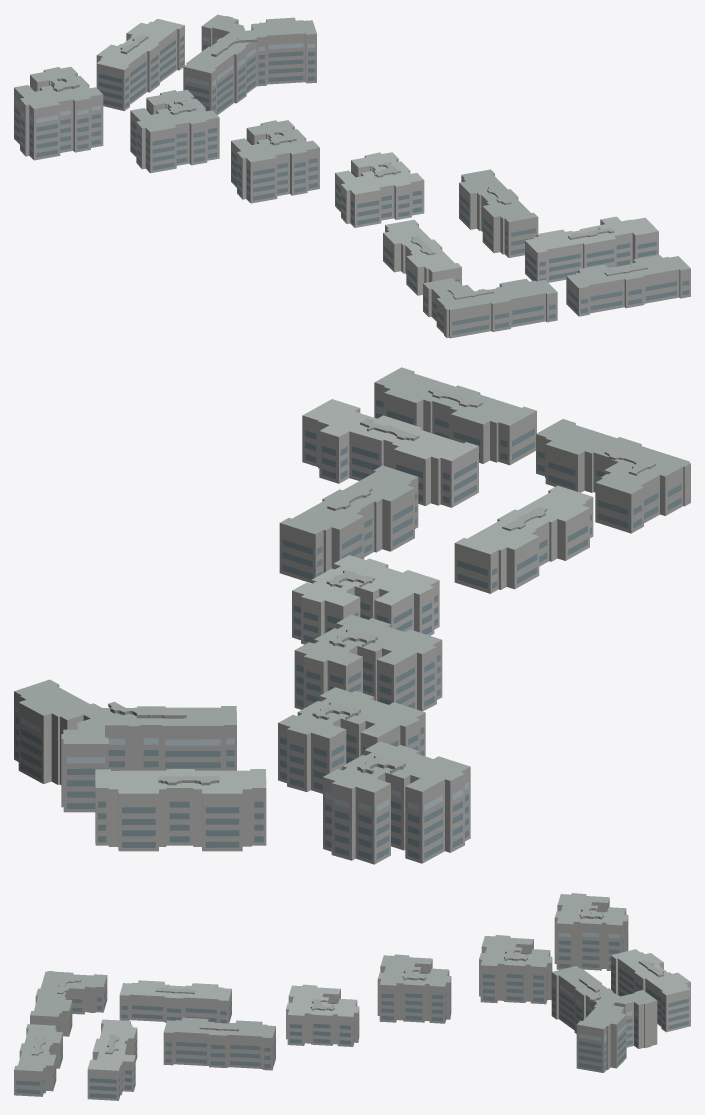
The model's file is apt-a10027909.glb.
3 views of the same model, one above another, from view 1: azimuth 30°, elevation 25°; view 2: azimuth 150°, elevation 25°; view 3: azimuth 270°, elevation 25° (orthographic). The views are drawn at different scales.
Visible parts, largest first — view 1: apt-a10027909; view 2: apt-a10027909; view 3: apt-a10027909.
Boxes of the visible parts, left/top/right/bottom form: apt-a10027909: left=14, top=14, right=690, bottom=338; apt-a10027909: left=14, top=367, right=690, bottom=864; apt-a10027909: left=14, top=893, right=690, bottom=1100.
Bounding box in the file's own units: 143 × 20 × 253.
